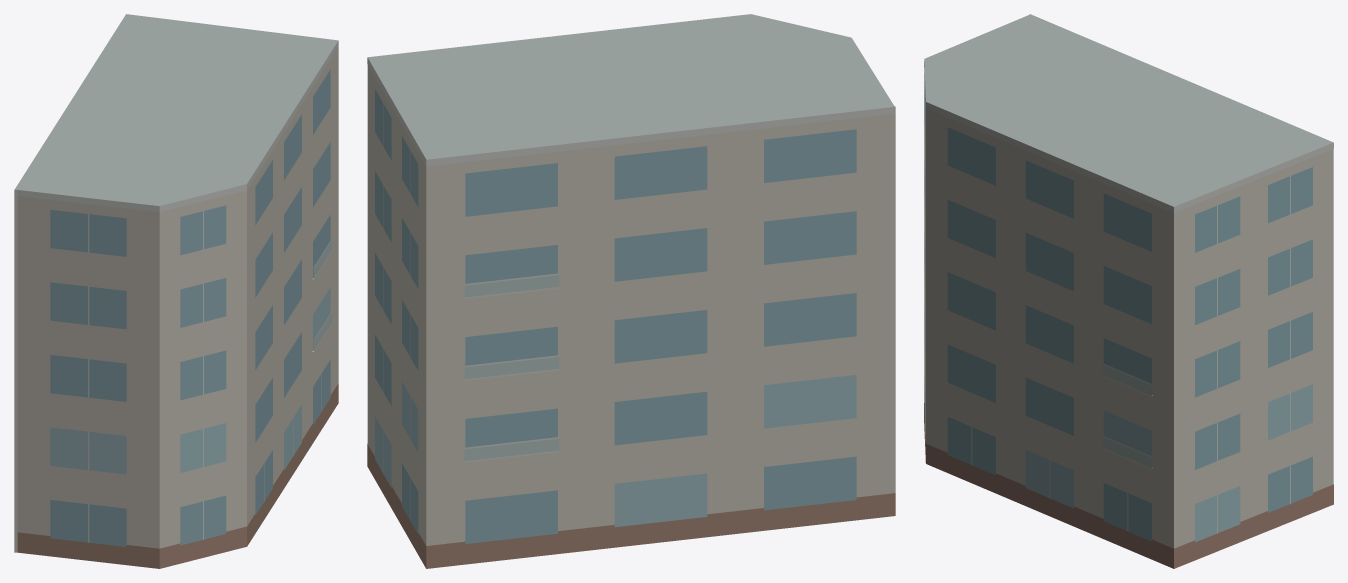
File: survey-upis-32682244.glb
The picture shows the model from 3 angles, left to right: view 1: azimuth 30°, elevation 25°; view 2: azimuth 150°, elevation 25°; view 3: azimuth 270°, elevation 25°; orthographic projection. The views are drawn at different scales.
Parts seen in each view (by area): view 1: survey-upis-32682244.tmp; view 2: survey-upis-32682244.tmp; view 3: survey-upis-32682244.tmp.
Boxes of the visible parts, bbox=[...] form: survey-upis-32682244.tmp: bbox=[14, 14, 338, 568]; survey-upis-32682244.tmp: bbox=[367, 14, 895, 568]; survey-upis-32682244.tmp: bbox=[924, 14, 1333, 568].
Size of the model in its own units: 16.47 by 14.4 by 14.78.
